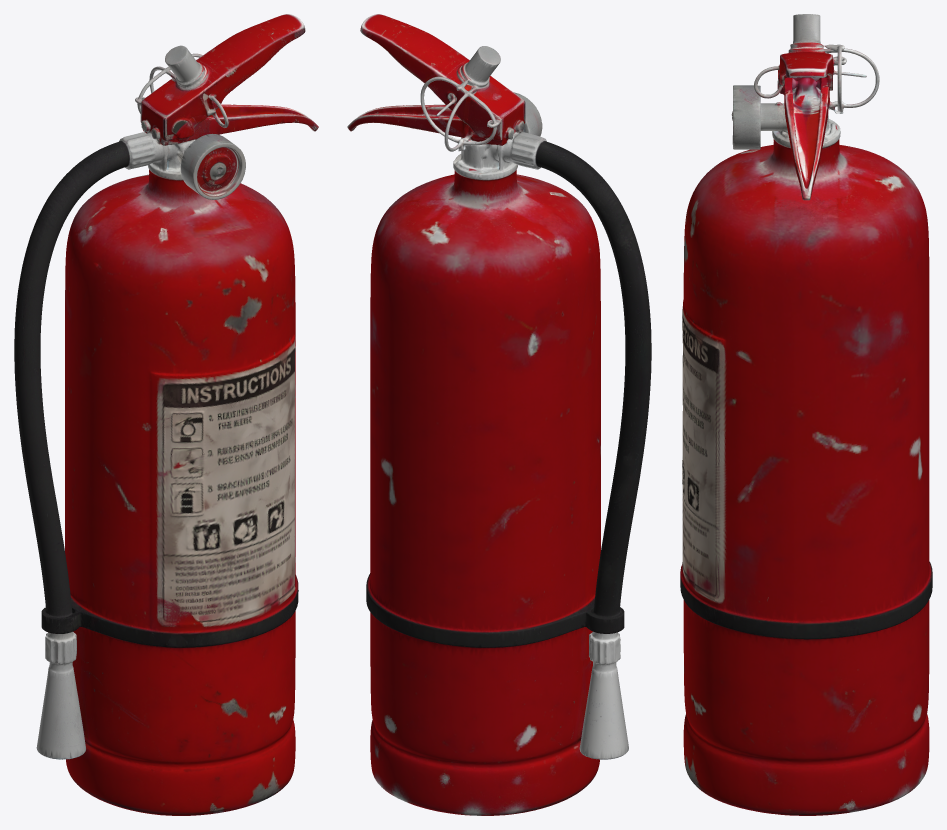
Rendered from cylendar.glb.
The picture shows the model from 3 angles, left to right: view 1: azimuth 30°, elevation 25°; view 2: azimuth 150°, elevation 25°; view 3: azimuth 270°, elevation 25°; orthographic projection. The views are drawn at different scales.
Bounding box in the file's own units: 0.8279 × 1.9 × 0.5716.
1 material, 1 textured.
